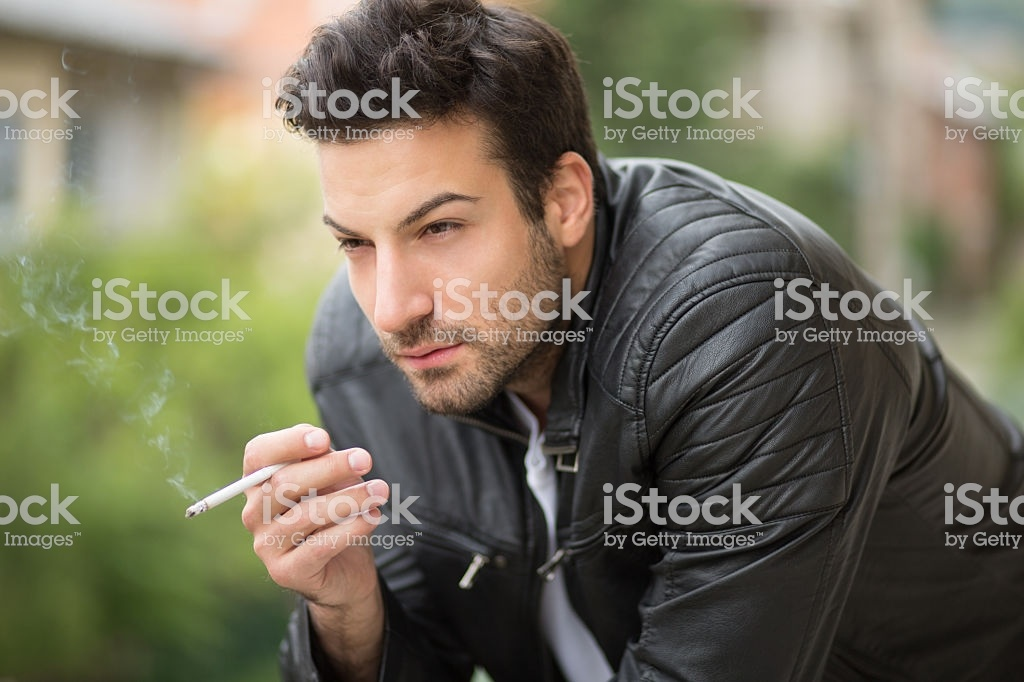sigaretta: (183, 454, 295, 521)
